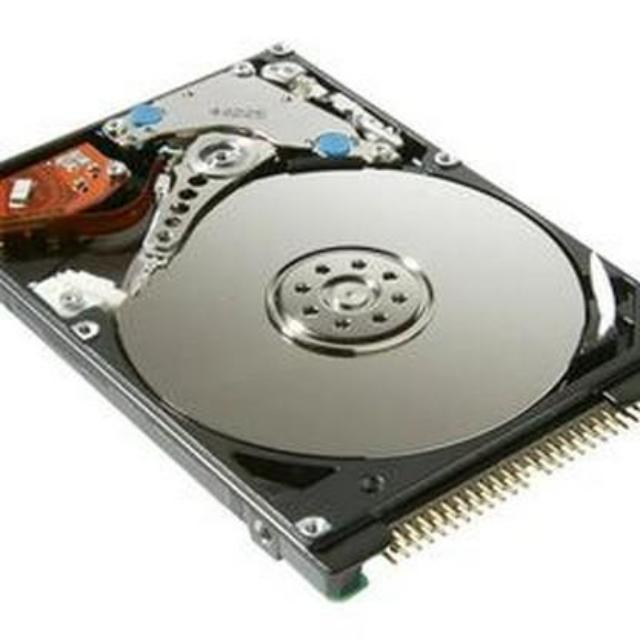DISK: (0, 34, 640, 606)
